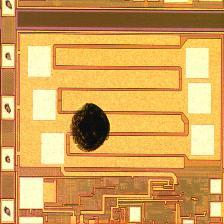PARTICLE: (65, 103, 117, 155)
